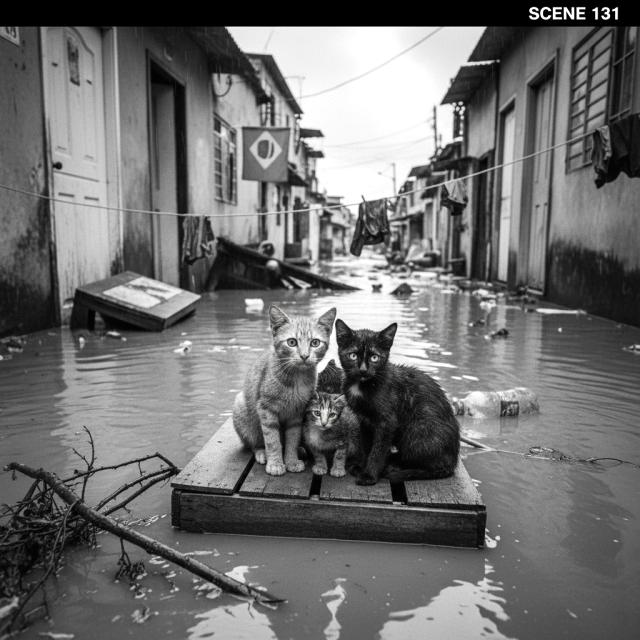cat: (334, 317, 469, 493), (226, 294, 341, 478), (301, 379, 353, 483)
